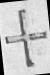Z11: (1, 0, 50, 74)
